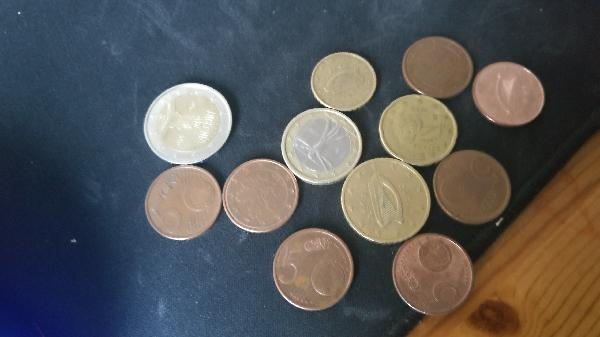Fifty Cent: (340, 158, 432, 240)
Five Cent: (269, 228, 355, 311), (391, 231, 475, 315), (430, 145, 514, 225), (220, 156, 302, 235), (144, 164, 222, 246), (472, 52, 547, 127), (401, 34, 474, 102)
One Euro: (281, 106, 359, 181)
Ten Cent: (311, 51, 379, 114)
Twenty Cent: (378, 91, 460, 162)
Two Euro: (142, 82, 231, 164)
